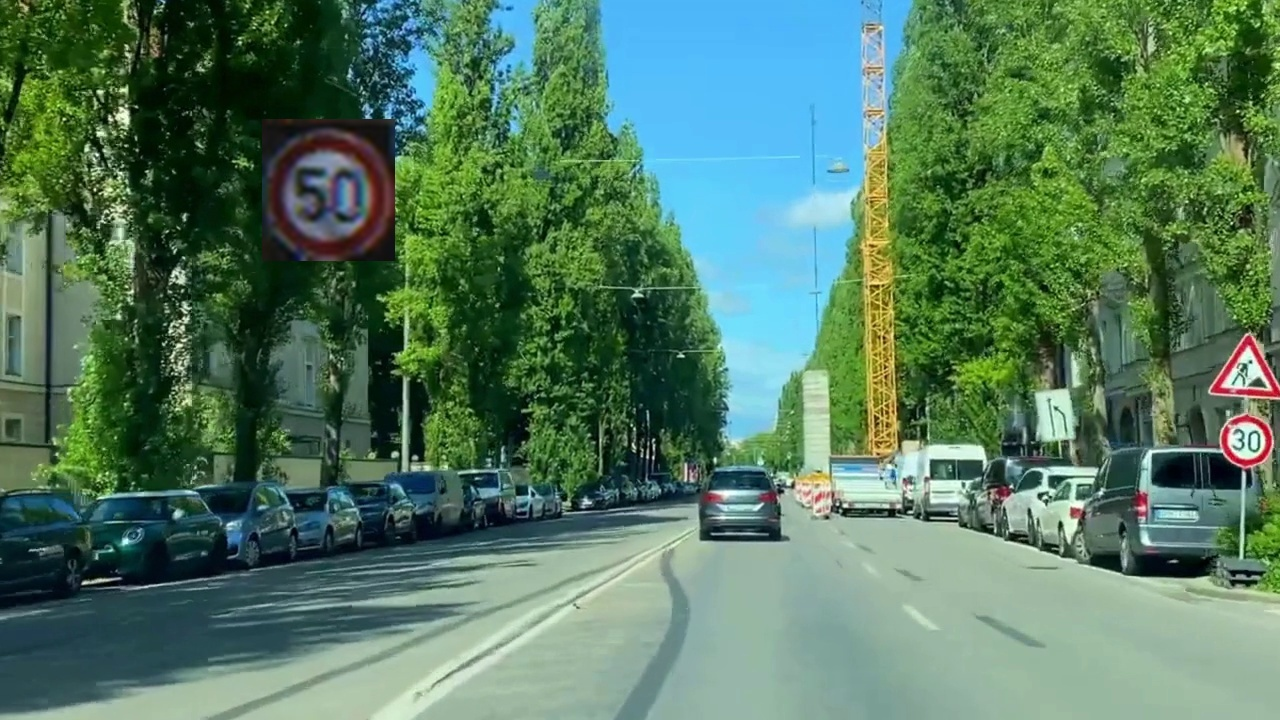Speed 50: (262, 119, 395, 261)
